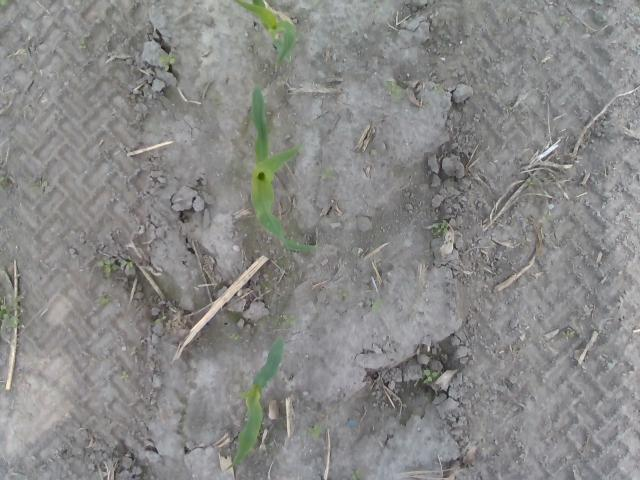Maize: (251, 86, 326, 257), (224, 334, 286, 472), (235, 0, 297, 69)
Weeds: (0, 298, 24, 330), (95, 259, 116, 278), (384, 82, 404, 100), (159, 52, 176, 73), (306, 424, 322, 440), (32, 180, 48, 193), (78, 35, 90, 52), (282, 315, 296, 329), (424, 370, 438, 383), (95, 296, 113, 306), (322, 166, 334, 180), (334, 288, 348, 300), (434, 222, 446, 236), (117, 260, 133, 270), (434, 84, 447, 96), (348, 470, 363, 480), (0, 170, 8, 186), (371, 298, 383, 308), (0, 1, 8, 8), (156, 318, 164, 323)
